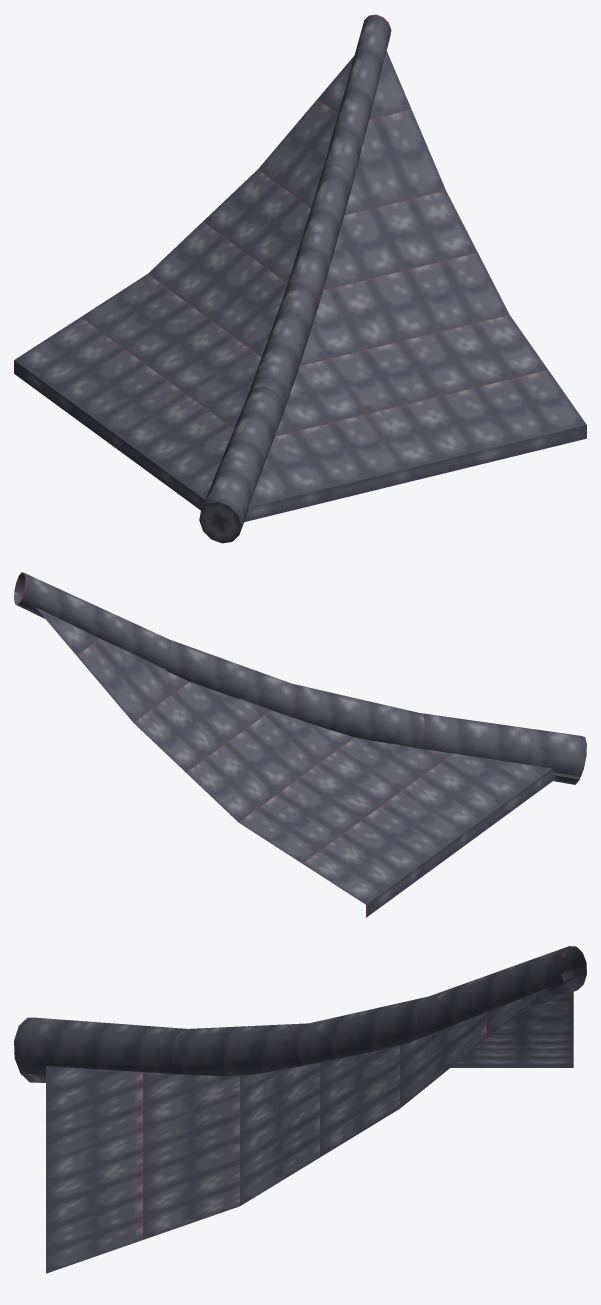
File: Roof_Outer.fbx
The picture shows the model from 3 angles, top to bottom: view 1: azimuth 30°, elevation 25°; view 2: azimuth 150°, elevation 25°; view 3: azimuth 270°, elevation 25°; orthographic projection. The views are drawn at different scales.
Parts seen in each view (by area): view 1: Roof_Outer; view 2: Roof_Outer; view 3: Roof_Outer.
Part boxes in pixels (<box>): Roof_Outer: <box>14,14,586,543</box>; Roof_Outer: <box>14,572,586,917</box>; Roof_Outer: <box>14,946,586,1273</box>.
Bounding box in the file's own units: 326 × 226 × 326.
